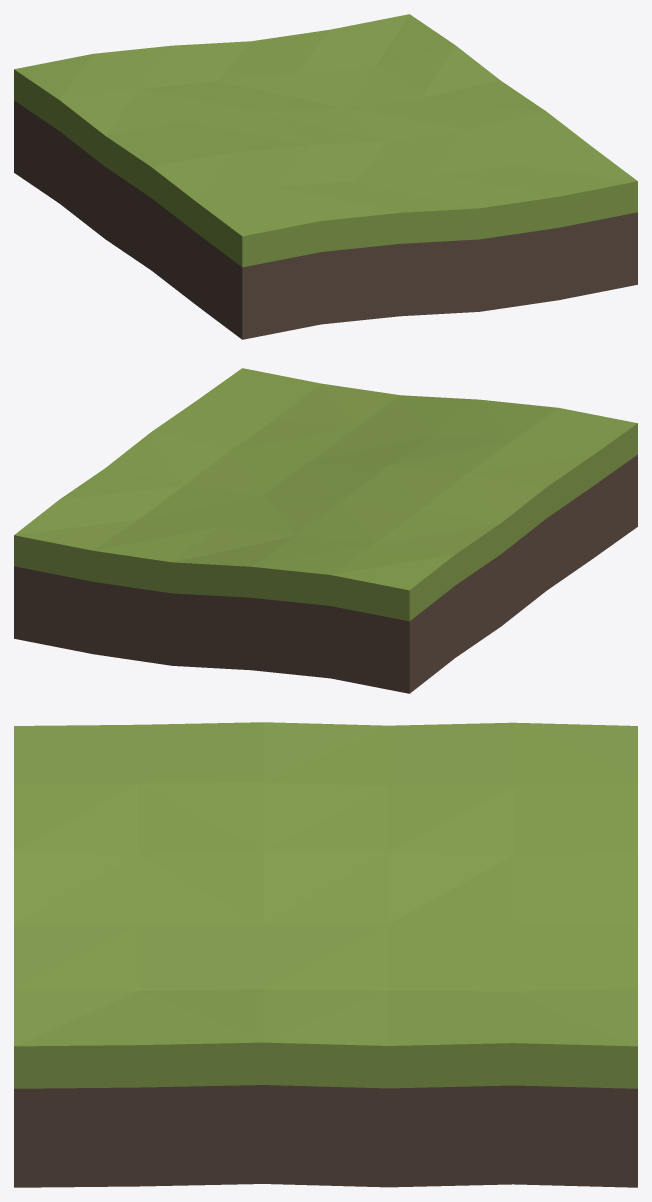
The model's file is terrain-world-hill_02-3.fbx.
3 renders of one model, top to bottom at view 1: azimuth 30°, elevation 25°; view 2: azimuth 150°, elevation 25°; view 3: azimuth 270°, elevation 25°, orthographic. The views are drawn at different scales.
Visible parts, largest first — view 1: terrain-world-hill_02-3; view 2: terrain-world-hill_02-3; view 3: terrain-world-hill_02-3.
Boxes of the visible parts, x1=… form: terrain-world-hill_02-3: x1=14, y1=14, x2=637, y2=339; terrain-world-hill_02-3: x1=14, y1=368, x2=637, y2=693; terrain-world-hill_02-3: x1=14, y1=722, x2=637, y2=1187.
Size of the model in its own units: 2001 by 713 by 2000.
